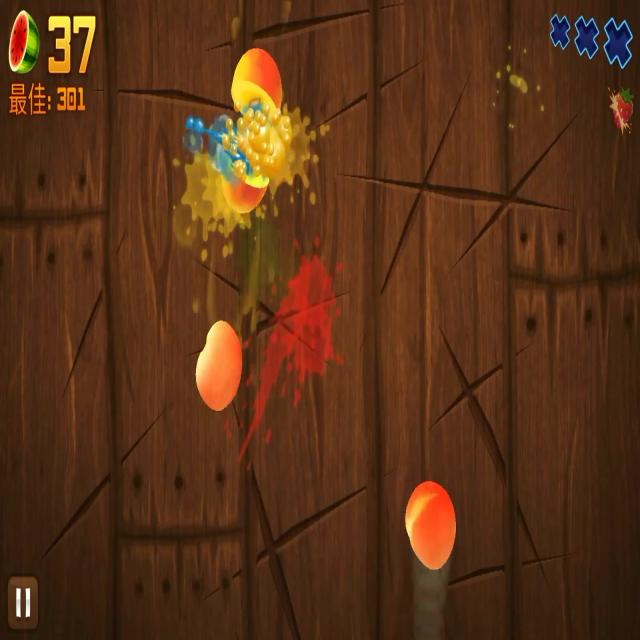fruit: (404, 476, 456, 572), (195, 318, 242, 412), (230, 45, 286, 120), (215, 144, 273, 208)
